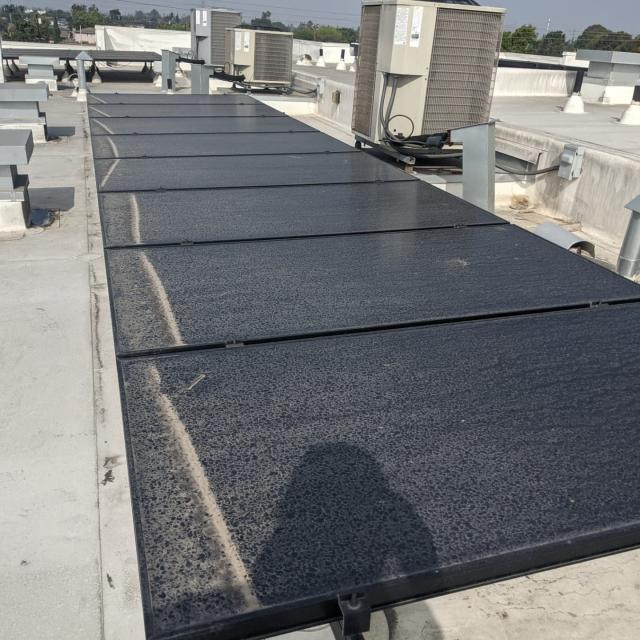dust-solar-panel: (87, 91, 640, 639)
